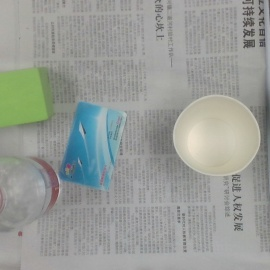bottle: (1, 155, 61, 231)
card: (59, 100, 126, 194)
cup: (173, 95, 261, 179)
